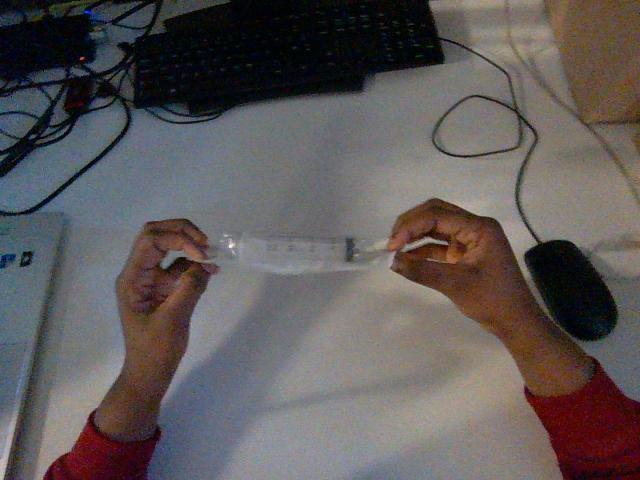syringe: (206, 233, 391, 274)
